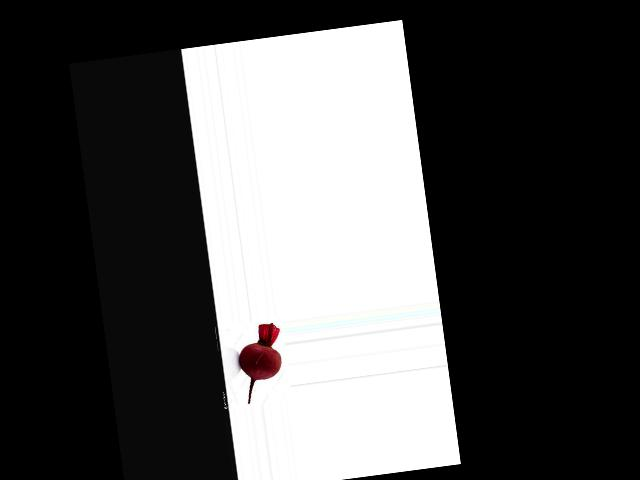beet: (234, 321, 288, 403)
